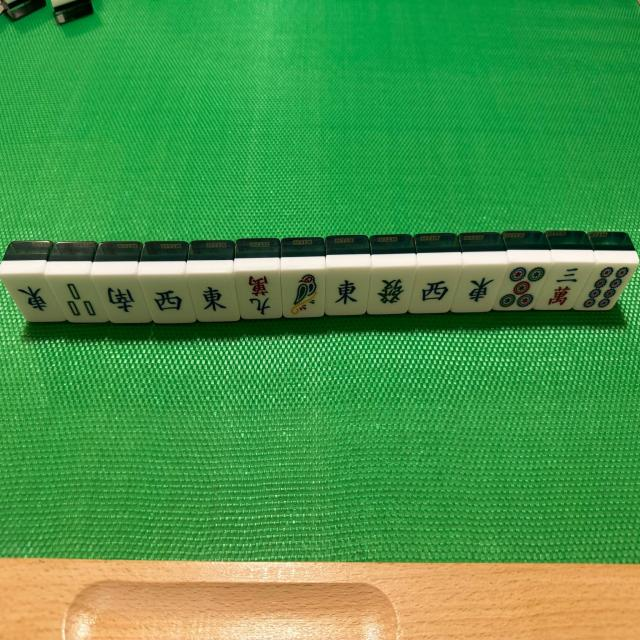east: (193, 277, 235, 321), (328, 270, 367, 315), (460, 270, 499, 314), (17, 278, 52, 321)
fa: (371, 270, 410, 314)
m3: (543, 264, 585, 311)
m9: (240, 272, 277, 316)
s1: (287, 269, 324, 317)
s3: (57, 278, 99, 322)
south: (104, 280, 138, 322)
t5: (498, 264, 548, 310)
t8: (581, 264, 630, 310)
west: (414, 271, 455, 313), (152, 281, 192, 321)
